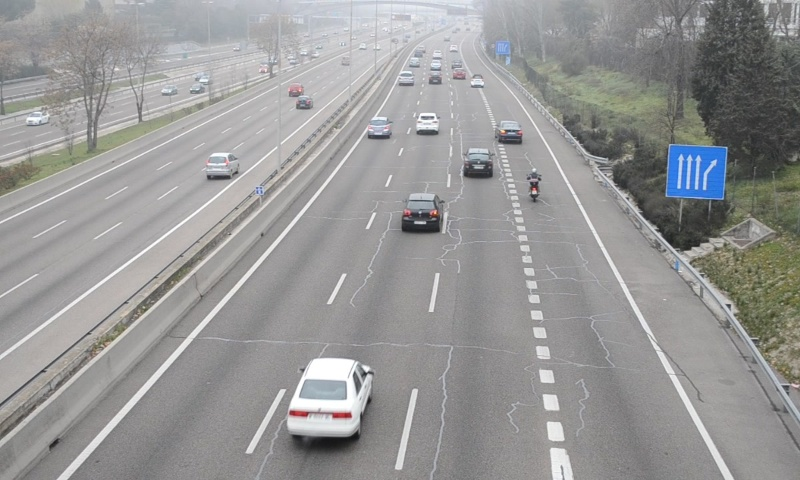car: (286, 357, 374, 438), (402, 192, 443, 231), (464, 148, 494, 176), (495, 120, 523, 144), (367, 115, 392, 138), (415, 112, 441, 134), (398, 70, 413, 86)
motorcycle: (526, 167, 542, 204)
